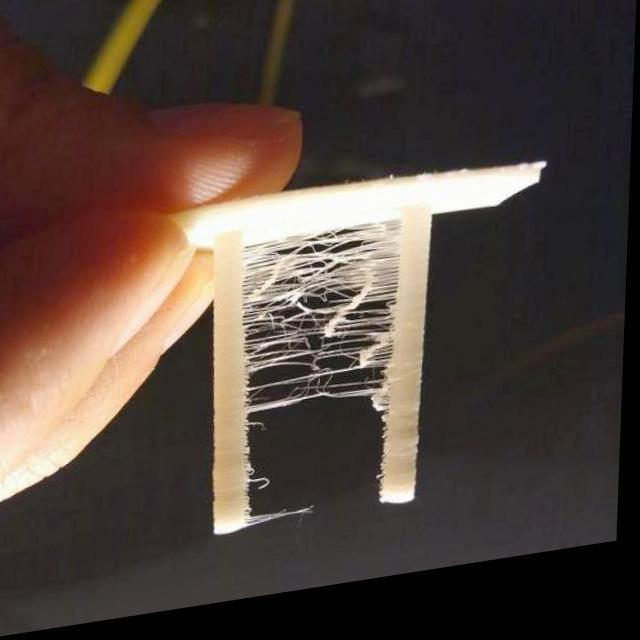stringing: (246, 241, 331, 342), (322, 228, 403, 326), (254, 387, 384, 423), (337, 316, 392, 381), (255, 335, 312, 388)
